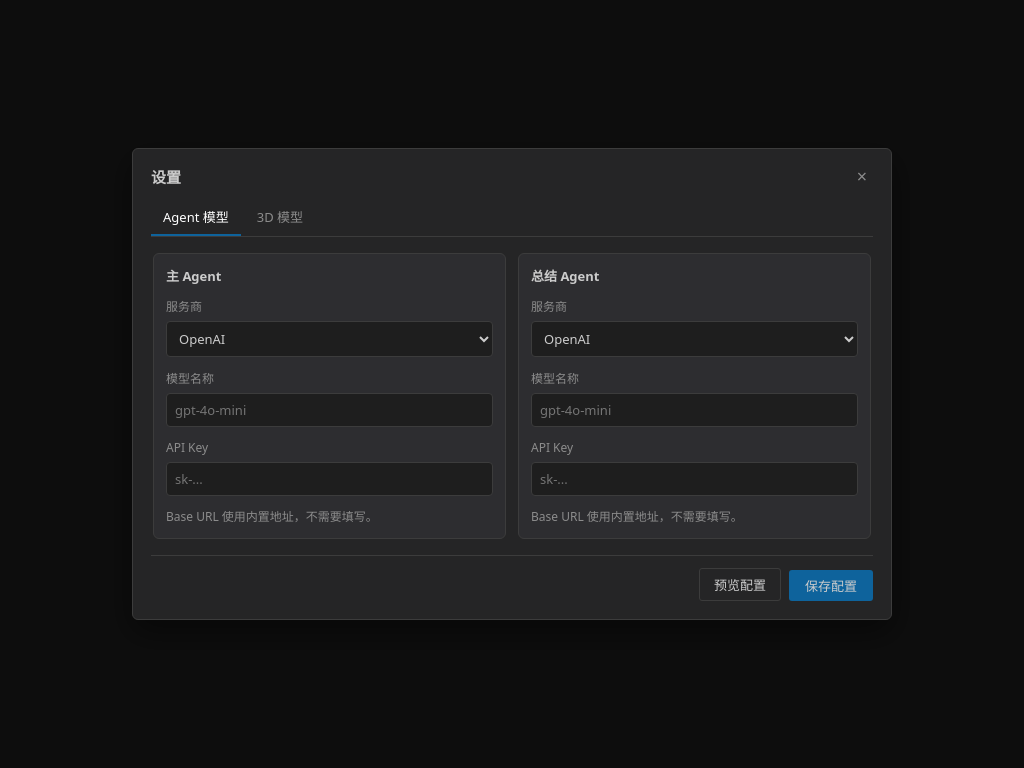
Test: SettingsDialog 3D 页 › swaps to hunyuan fields with the default region
Click the button "3D 模型" at (280, 218), box [245,199,315,236]
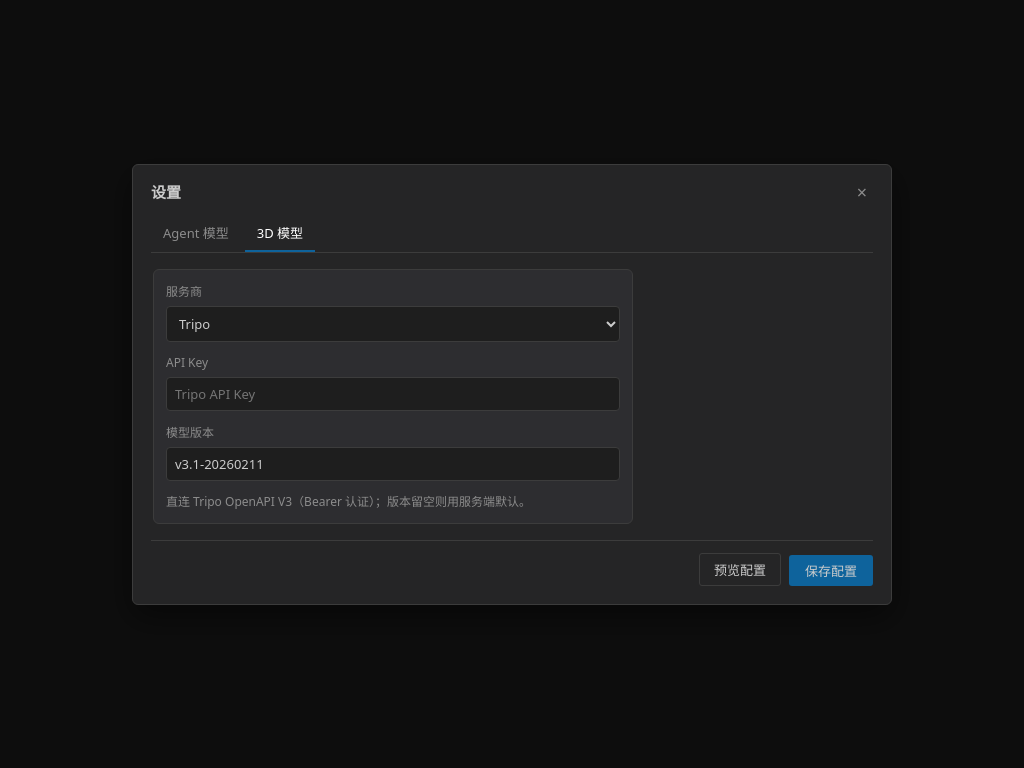
Select "腾讯混元3D" in the dropdown labelled "服务商" at (393, 324), box [166,306,620,342]
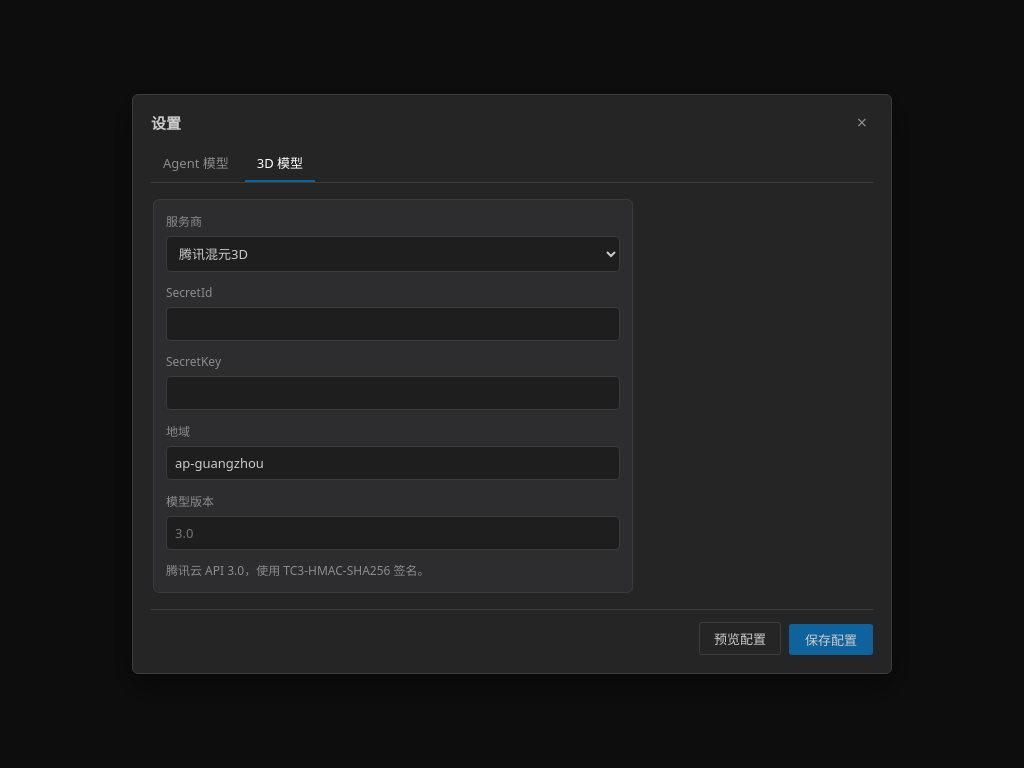
Expected: the label "SecretId" is shown, [166,284,620,341]
Expected: the label "SecretKey" is shown, [166,353,620,410]
Expected: the field labelled "地域" holds "ap-guangzhou", [166,446,620,480]
